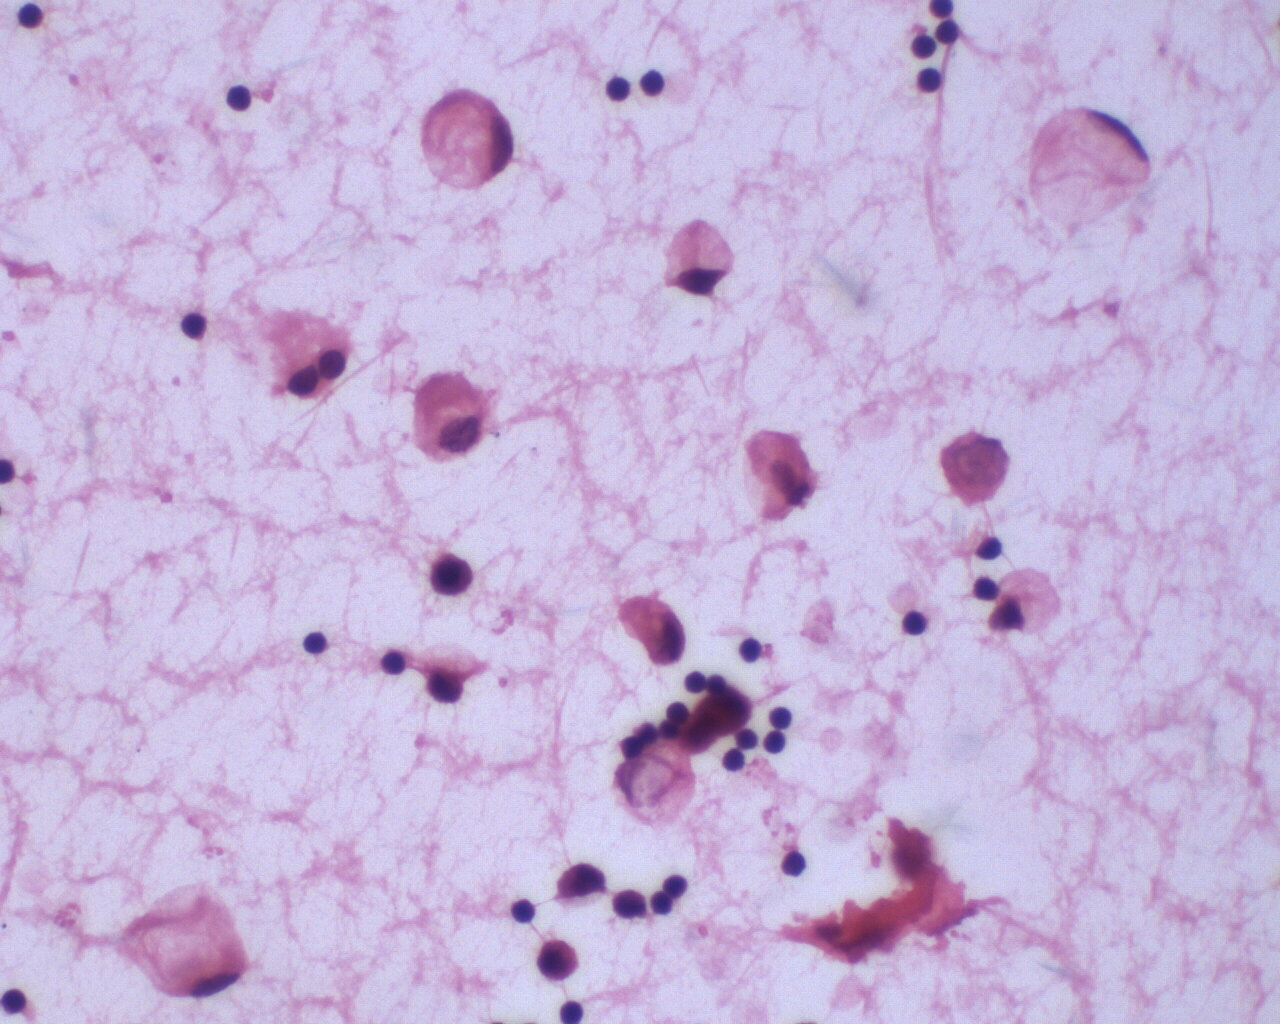histo: (1027, 102, 1155, 232), (123, 886, 254, 1007), (410, 83, 525, 197), (661, 218, 741, 303), (996, 565, 1069, 635)
lymph: (176, 307, 216, 347), (891, 606, 930, 643), (914, 60, 948, 101), (601, 72, 637, 110), (223, 80, 260, 116), (505, 895, 544, 929), (298, 627, 334, 662), (777, 847, 811, 882), (737, 631, 769, 666), (637, 64, 668, 98), (765, 702, 798, 732)
